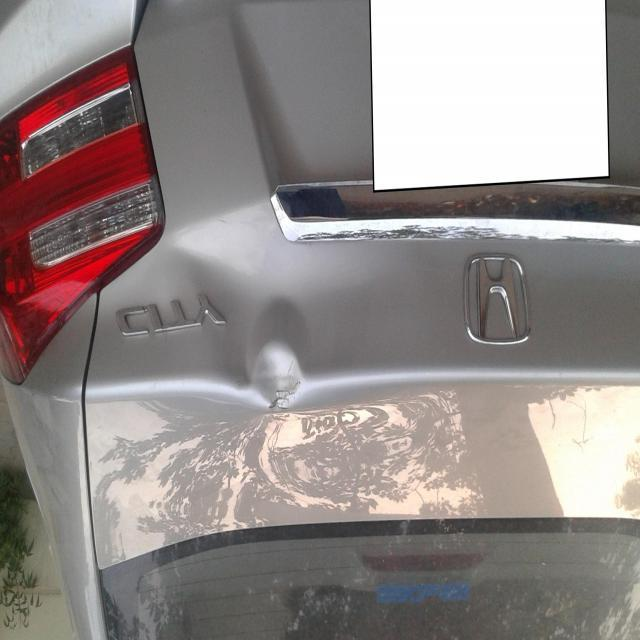dent: (208, 310, 322, 436)
